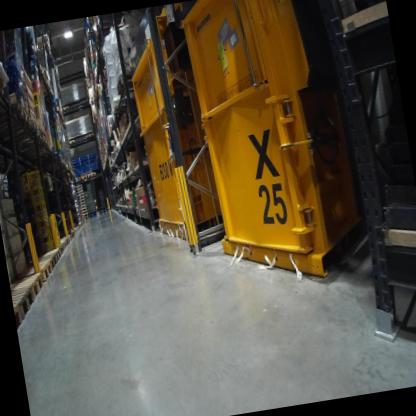pallet: (0, 86, 30, 128), (9, 272, 44, 306), (11, 286, 37, 328), (0, 113, 42, 138), (21, 257, 54, 288), (10, 140, 53, 159), (10, 133, 49, 150), (112, 73, 134, 97), (108, 99, 137, 116), (36, 253, 58, 275), (37, 247, 62, 266), (13, 305, 25, 331), (35, 77, 51, 92), (37, 62, 48, 79), (118, 127, 129, 142), (80, 96, 92, 109), (56, 239, 68, 251), (62, 103, 71, 117), (55, 243, 65, 255), (59, 236, 70, 246), (114, 132, 122, 145), (84, 130, 94, 139), (87, 170, 96, 179), (78, 172, 88, 180), (66, 232, 73, 243), (68, 138, 75, 146), (69, 230, 74, 238)
